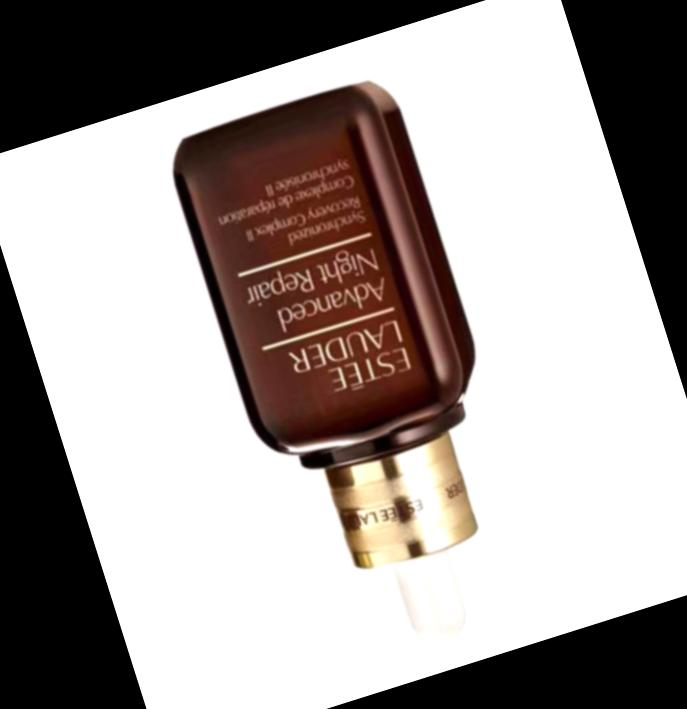cosmetic: (163, 83, 549, 687)
